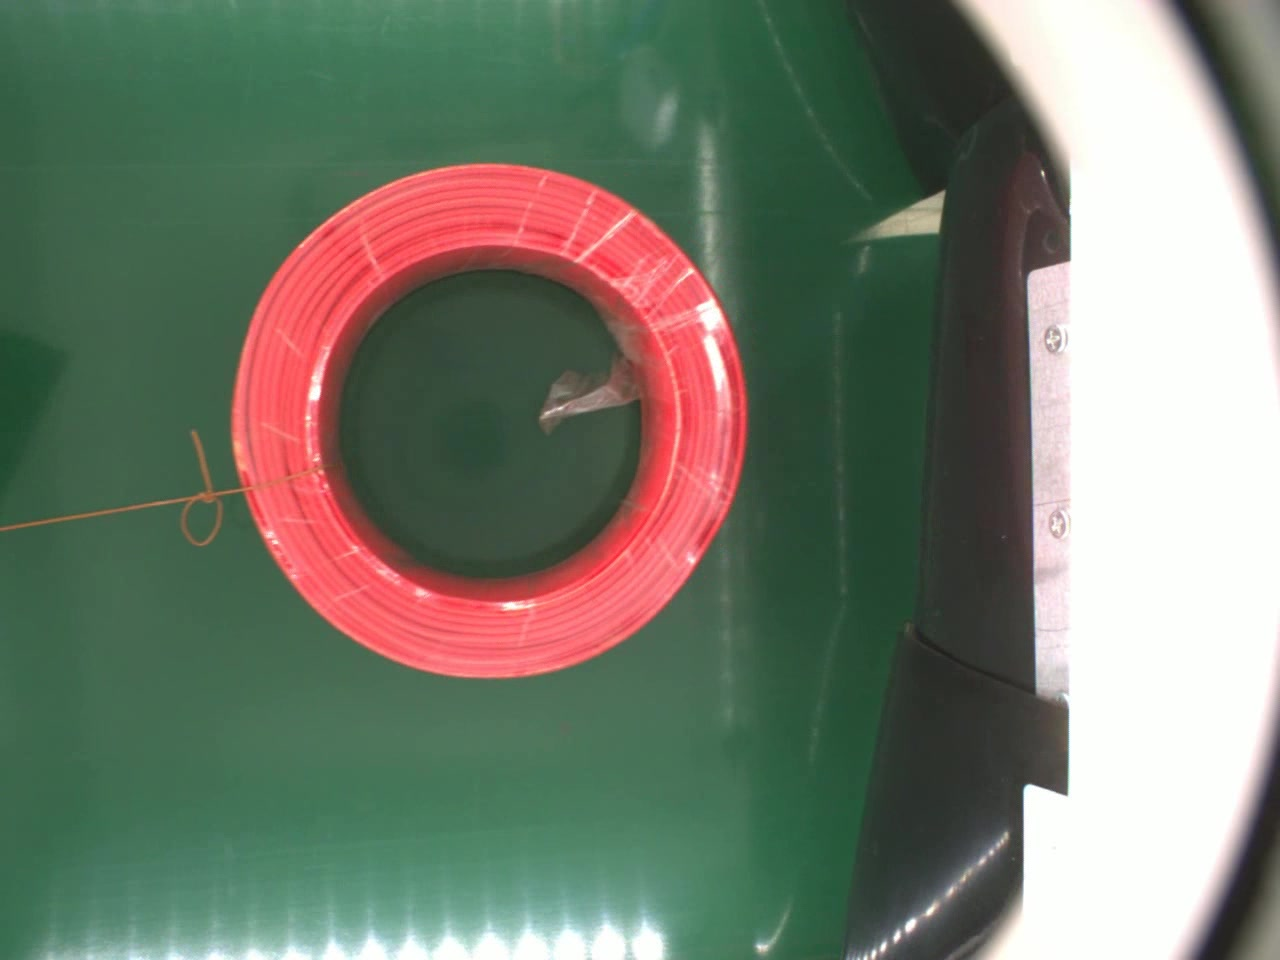red: (231, 158, 757, 684)
